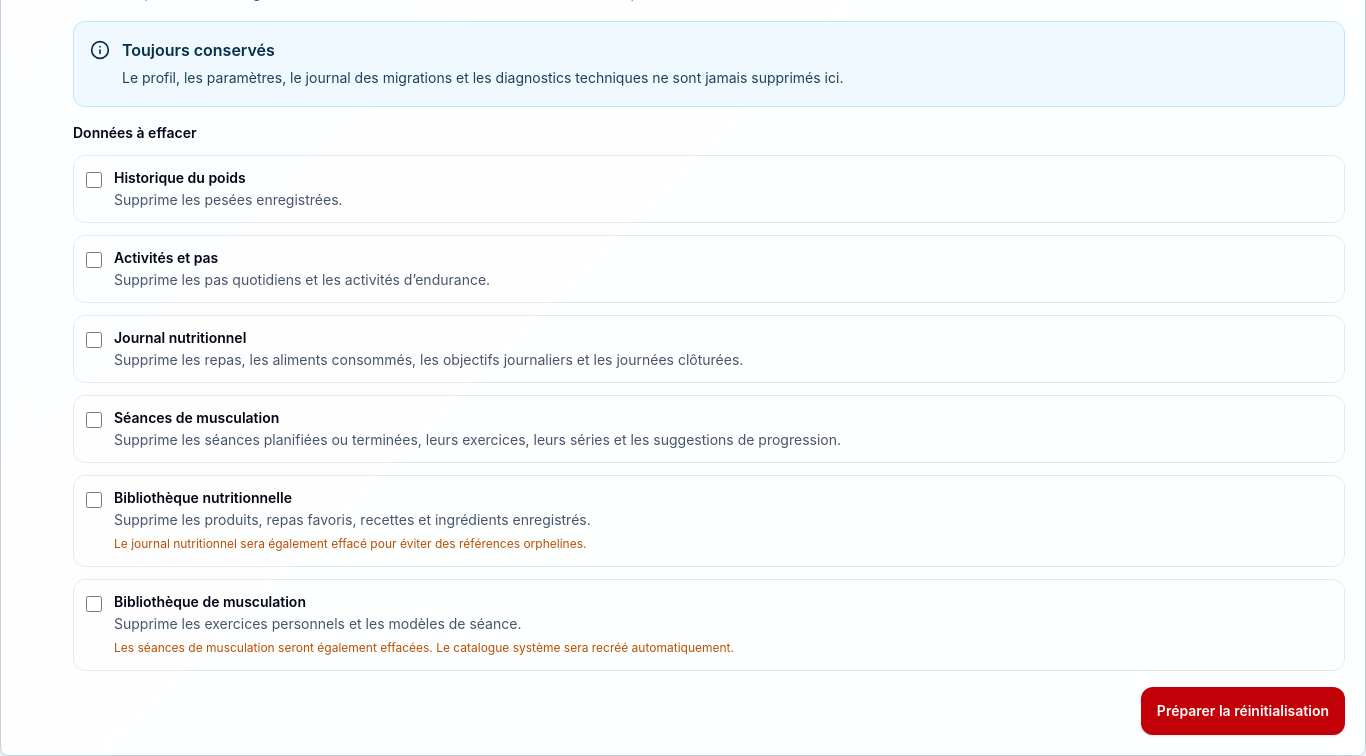
Test: SelectiveDataResetPanel › prévisualise puis confirme une suppression ciblée
(page scrolled)
Expected: the text "Le profil, les paramètres" is shown, 122,69 -> 843,86
Click the button "Préparer la réinitialisation": (1243, 711) 1141,687 -> 1345,735
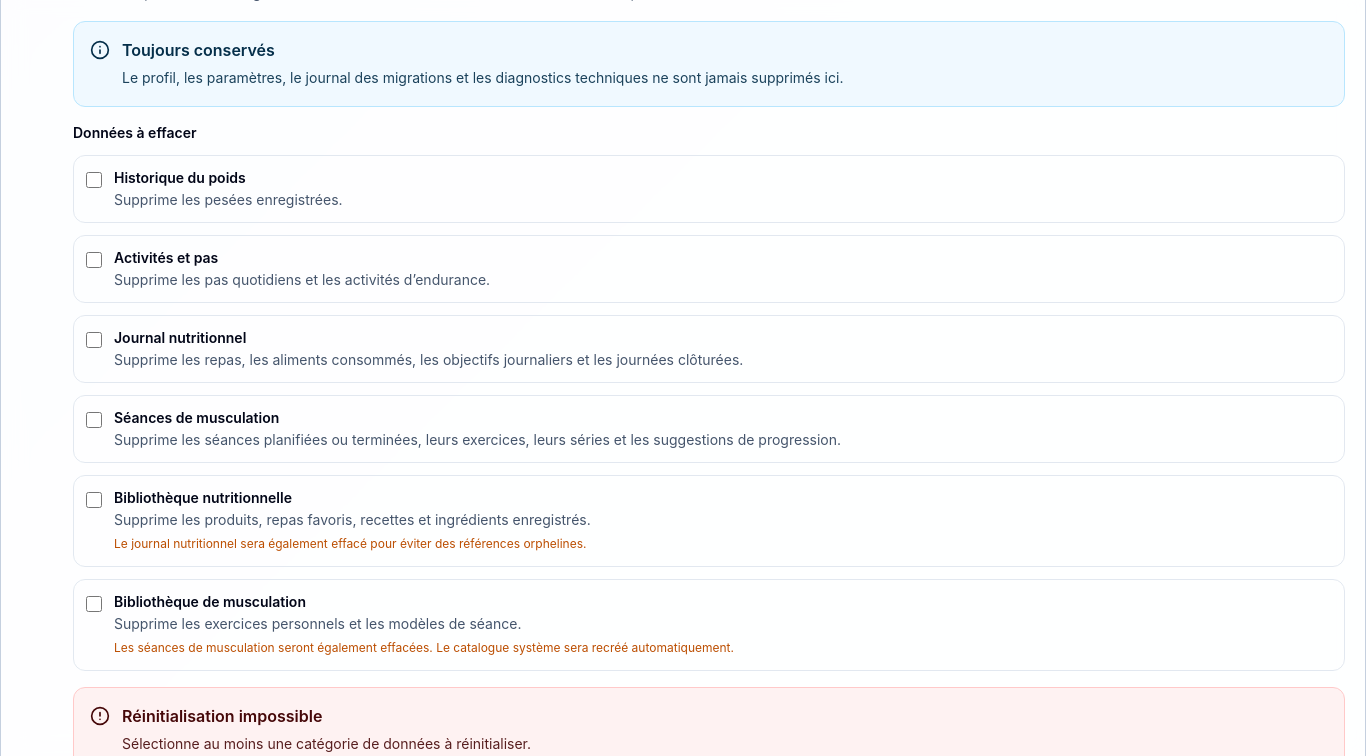
Expected: the text "Sélectionne au moins une catégorie" is shown, 122,735 -> 531,752
Click the checkbox labelled "Activités et pas": (94, 260) 86,252 -> 102,268
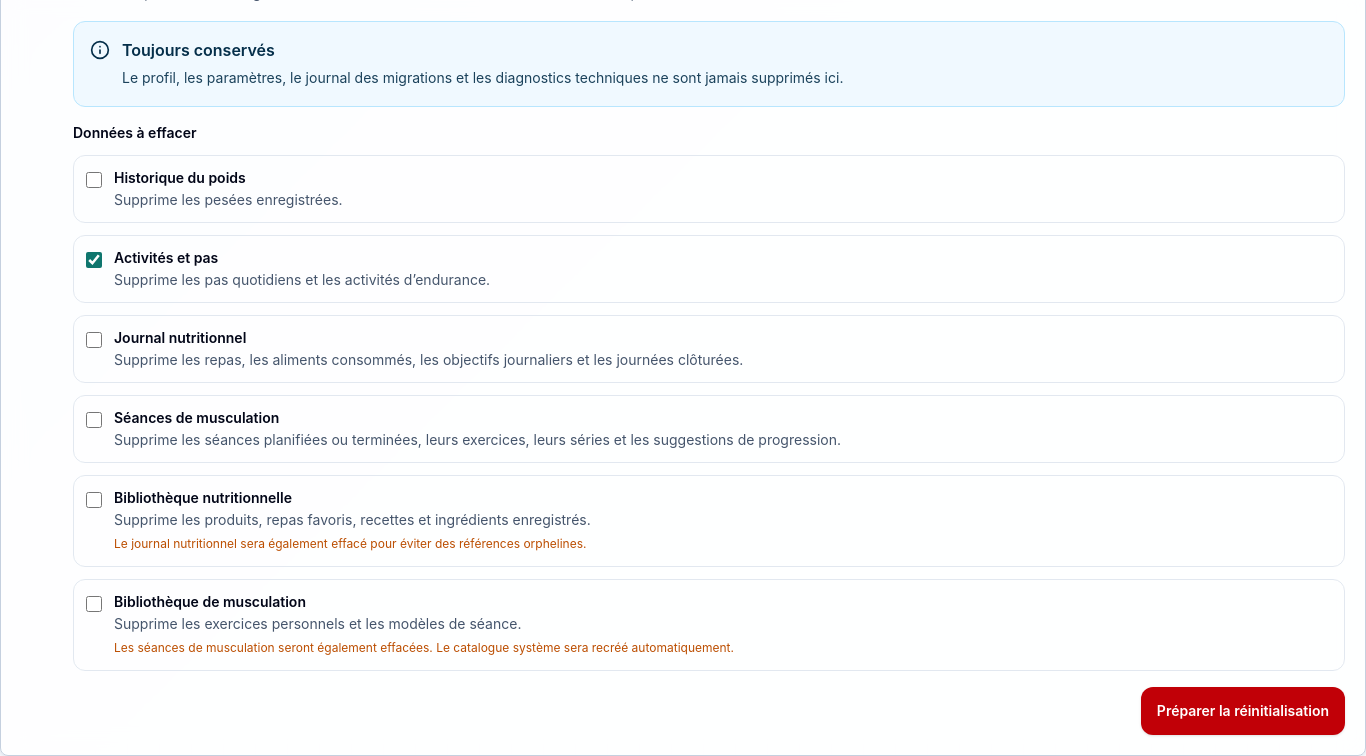
Click the button "Préparer la réinitialisation": (1243, 711) 1141,687 -> 1345,735
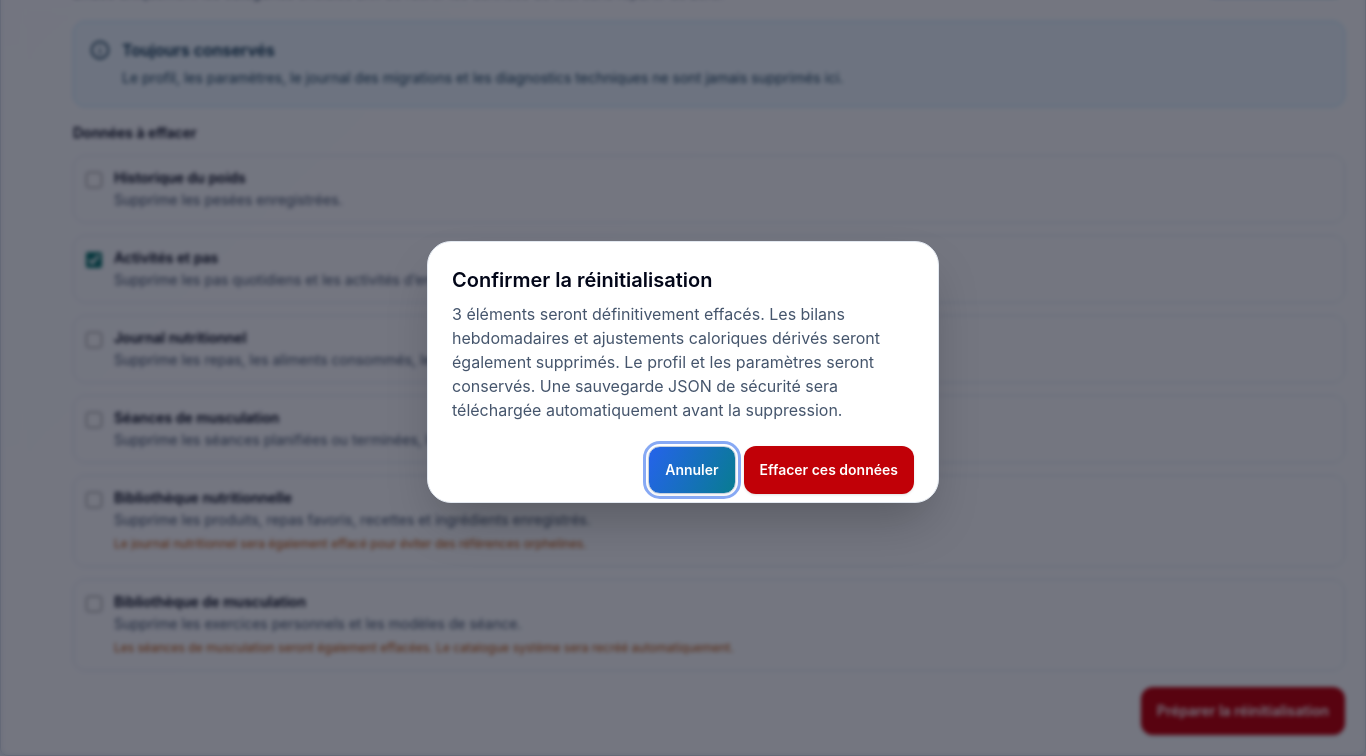
Expected: the heading "Confirmer la réinitialisation" is shown, 452,268 -> 712,292
Expected: the text "3 éléments seront définitivement effacés" is shown, 452,304 -> 880,420
Click the button "Effacer ces données": (829, 470) 744,446 -> 914,494
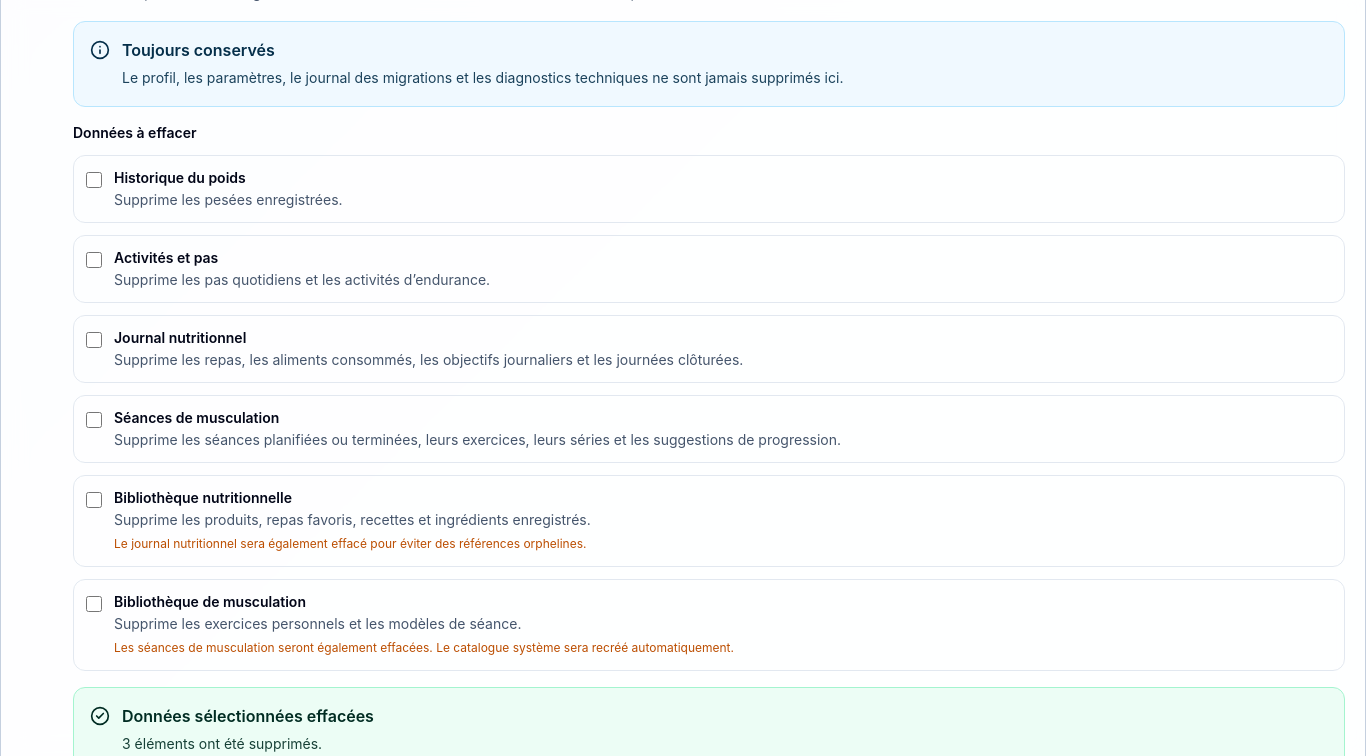
Expected: the text "Données sélectionnées effacées" is shown, 122,704 -> 374,728
Expected: the message shows "3 éléments ont été supprimés", 122,735 -> 322,752
